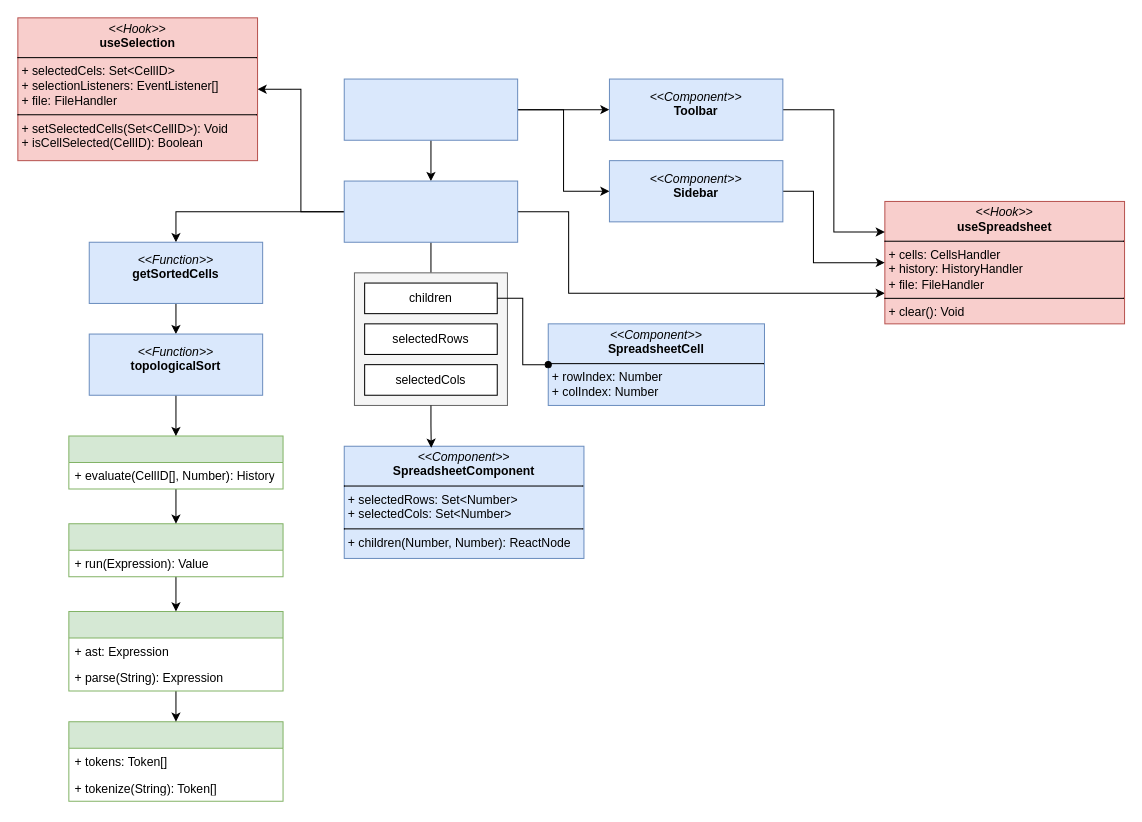
This 1142x822 diagram has some shape labels left out. The box of each missing label's shape, as (x1, y1, x2, y2) in pixels:
<<Component>> SpreadsheetPage: (343, 78, 518, 140)
<<Component>> SpreadsheetWrapper: (343, 180, 518, 242)
Evaluator: (68, 435, 283, 489)
Lexer: (68, 721, 283, 801)
Parser: (68, 610, 283, 691)
Runtime: (68, 523, 283, 577)
